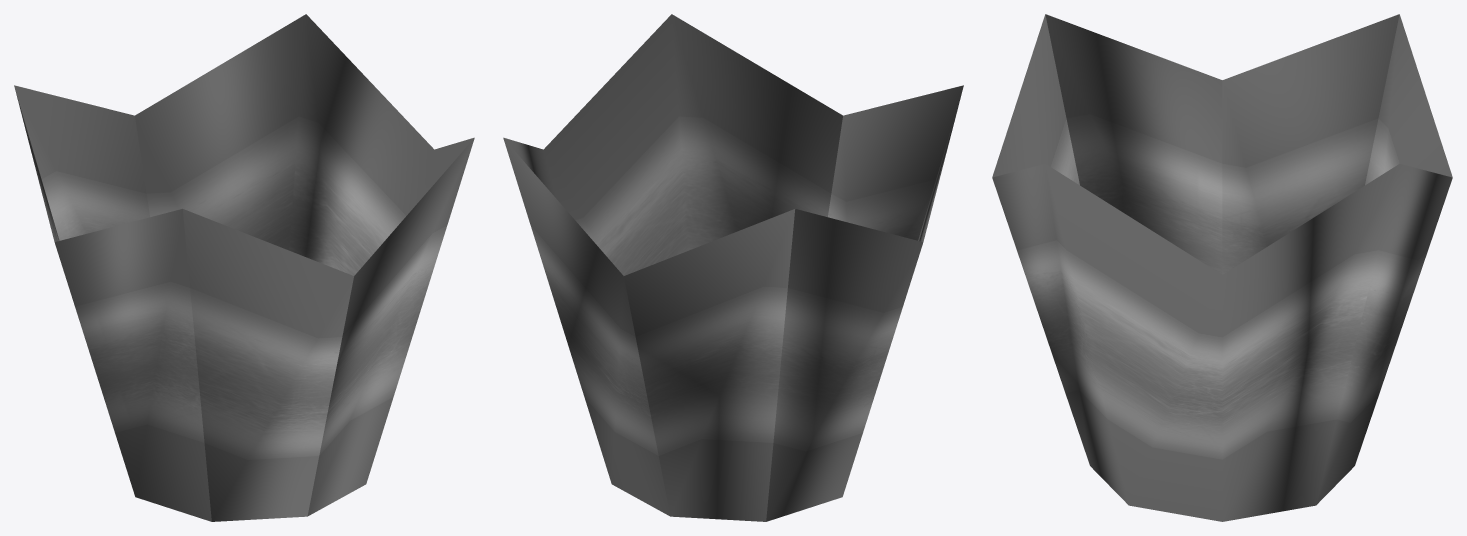
The model's file is beam_chest_spike.fbx.
3 views of the same model, side by side, from view 1: azimuth 30°, elevation 25°; view 2: azimuth 150°, elevation 25°; view 3: azimuth 270°, elevation 25° (orthographic). The views are drawn at different scales.
Parts seen in each view (by area): view 1: beam_chest; view 2: beam_chest; view 3: beam_chest.
Boxes of the visible parts, x1=… form: beam_chest: x1=14, y1=14, x2=474, y2=521; beam_chest: x1=503, y1=14, x2=963, y2=521; beam_chest: x1=992, y1=14, x2=1452, y2=521.
Size of the model in its own units: 4.81 by 4.35 by 4.81.
